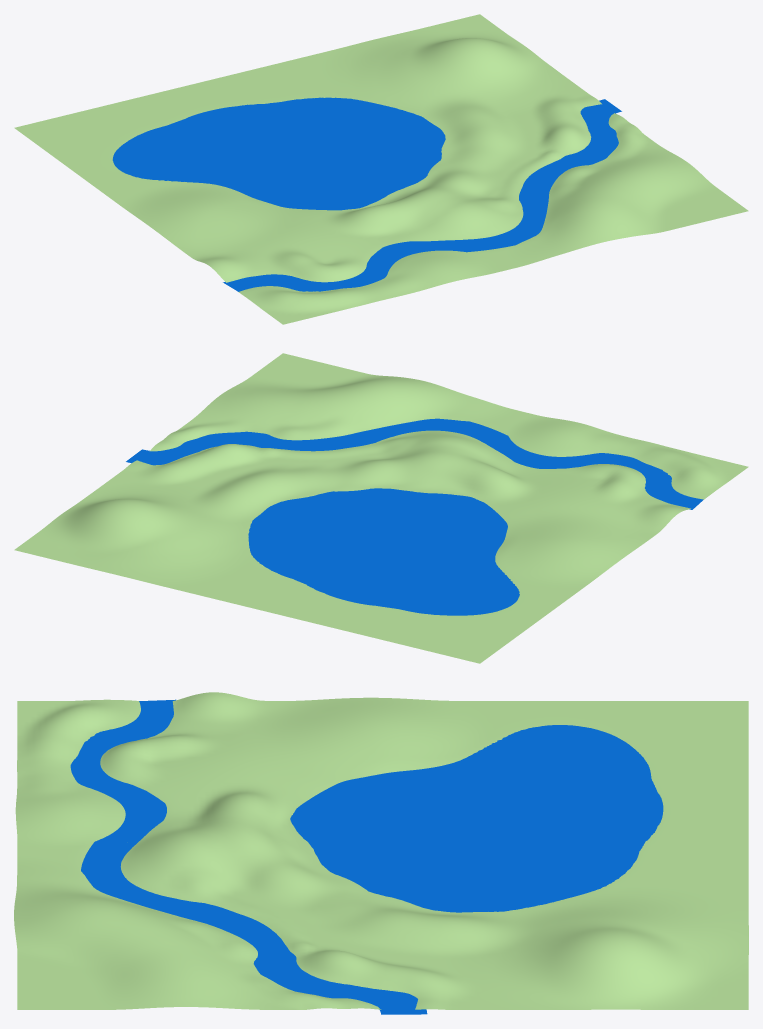
The model's file is demoScene.glb.
3 views of the same model, one above another, from view 1: azimuth 30°, elevation 25°; view 2: azimuth 150°, elevation 25°; view 3: azimuth 270°, elevation 25° (orthographic). The views are drawn at different scales.
Parts seen in each view (by area): view 1: Ground, Lake, River; view 2: Ground, Lake, River; view 3: Ground, Lake, River.
Boxes of the visible parts, box(x1,y1,x2,y2) form: Ground: box(14, 14, 748, 324); Lake: box(112, 97, 445, 210); River: box(223, 99, 621, 291); Ground: box(14, 353, 748, 663); Lake: box(248, 488, 519, 615); River: box(126, 418, 703, 509); Ground: box(14, 692, 748, 1009); Lake: box(290, 725, 663, 912); River: box(70, 699, 427, 1014).
Size of the model in its own units: 102 by 7.84 by 101.
